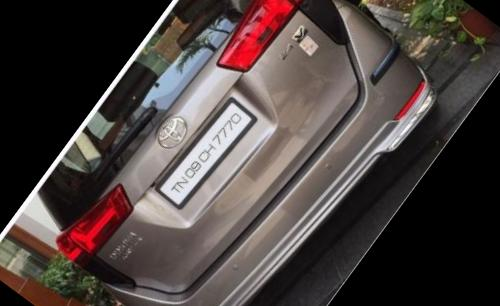plate: (149, 80, 279, 229)
